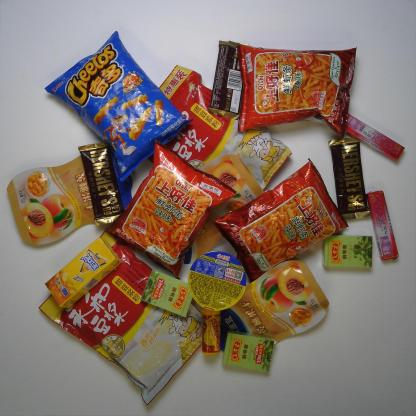Candy: (334, 106, 406, 164), (364, 183, 409, 266), (139, 270, 197, 315), (321, 229, 377, 274), (226, 326, 274, 368), (199, 307, 222, 352)
Chocolate: (79, 140, 126, 226), (327, 133, 371, 223), (210, 40, 250, 116)
Dried Fruit: (203, 257, 331, 357), (169, 153, 268, 263), (5, 151, 112, 245)
Drink: (45, 236, 116, 308)
Instant Drink: (38, 224, 237, 404), (153, 62, 290, 195)
Instant Noodles: (189, 254, 248, 309)
Puffed Food: (45, 31, 189, 174), (96, 142, 234, 288), (214, 156, 349, 286), (236, 40, 360, 133)
